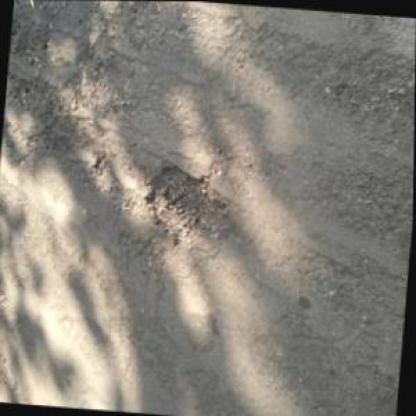pothole: (144, 158, 230, 251)
